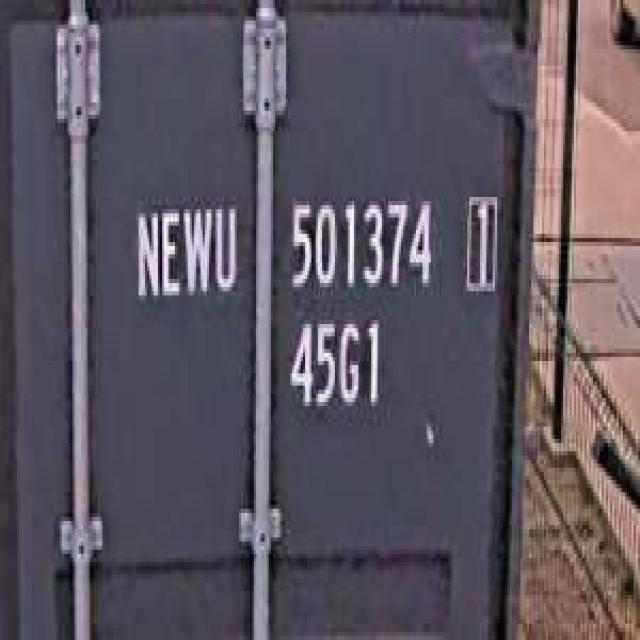dv: (459, 180, 501, 304)
owner: (128, 193, 241, 308)
serial: (284, 184, 437, 300)
size: (284, 308, 386, 422)
